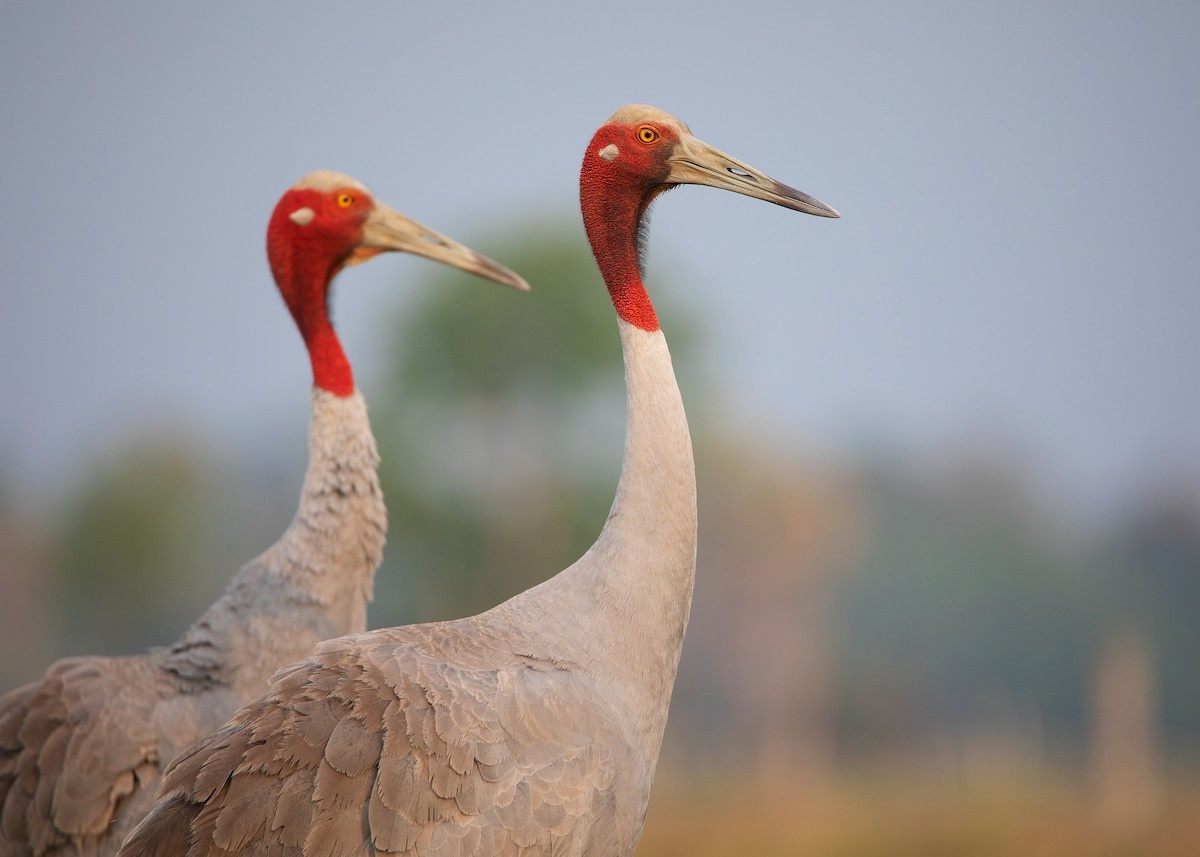crane: (1, 155, 541, 851), (561, 92, 871, 809)
